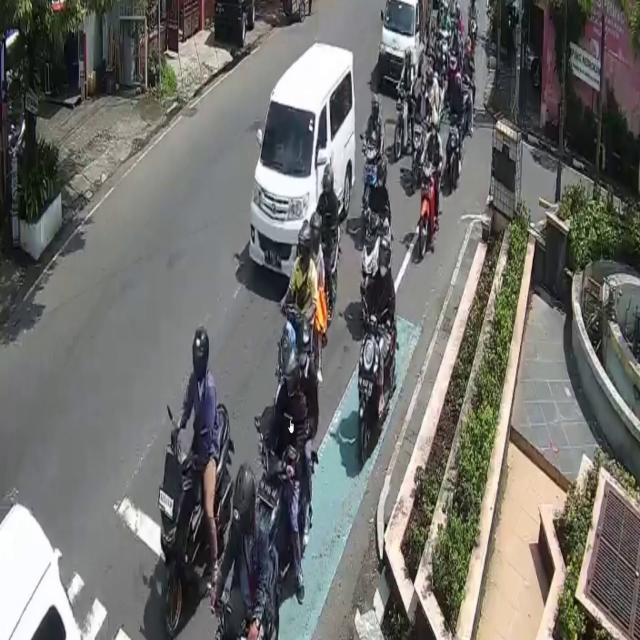bus: (159, 402, 232, 638), (261, 440, 311, 580), (359, 310, 396, 466), (418, 157, 437, 254), (362, 208, 384, 282)
motorcycle: (249, 41, 355, 276), (379, 0, 425, 89)
